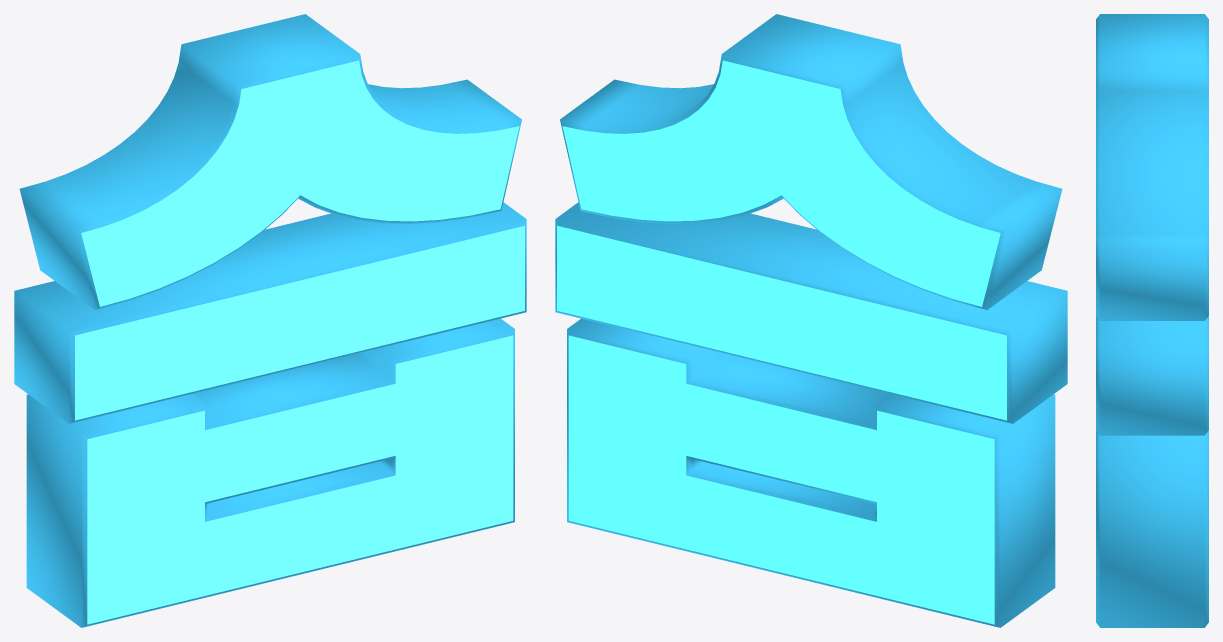
3 renders of one model, left to right at view 1: azimuth 30°, elevation 25°; view 2: azimuth 150°, elevation 25°; view 3: azimuth 270°, elevation 25°, orthographic. The views are drawn at different scales.
Parts seen in each view (by area): view 1: glyph; view 2: glyph; view 3: glyph.
Boxes of the visible parts, x1,y1,x2,y2 form: glyph: (14, 14, 526, 627); glyph: (555, 14, 1067, 627); glyph: (1096, 14, 1208, 627).
Bounding box in the file's own units: 0.0725 × 0.0766 × 0.0162.
